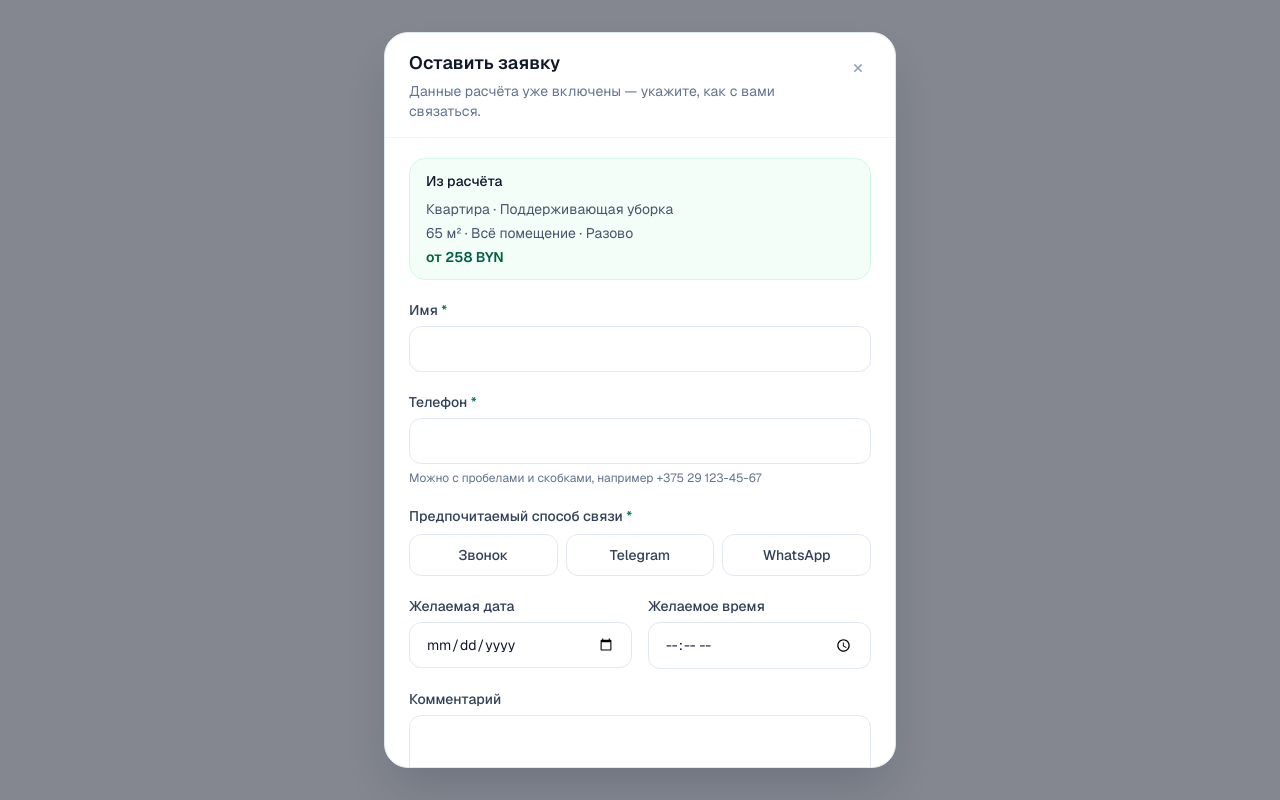
Test: RequestQuoteDialog › keeps form data after server error
The width and height of the screenshot is (1280, 800).
Check: the form with test id "request-quote-form" is shown, box [409,158,871,767]
Type "Мария" into the field labelled "Имя *" at (640, 349), box [409,326,871,372]
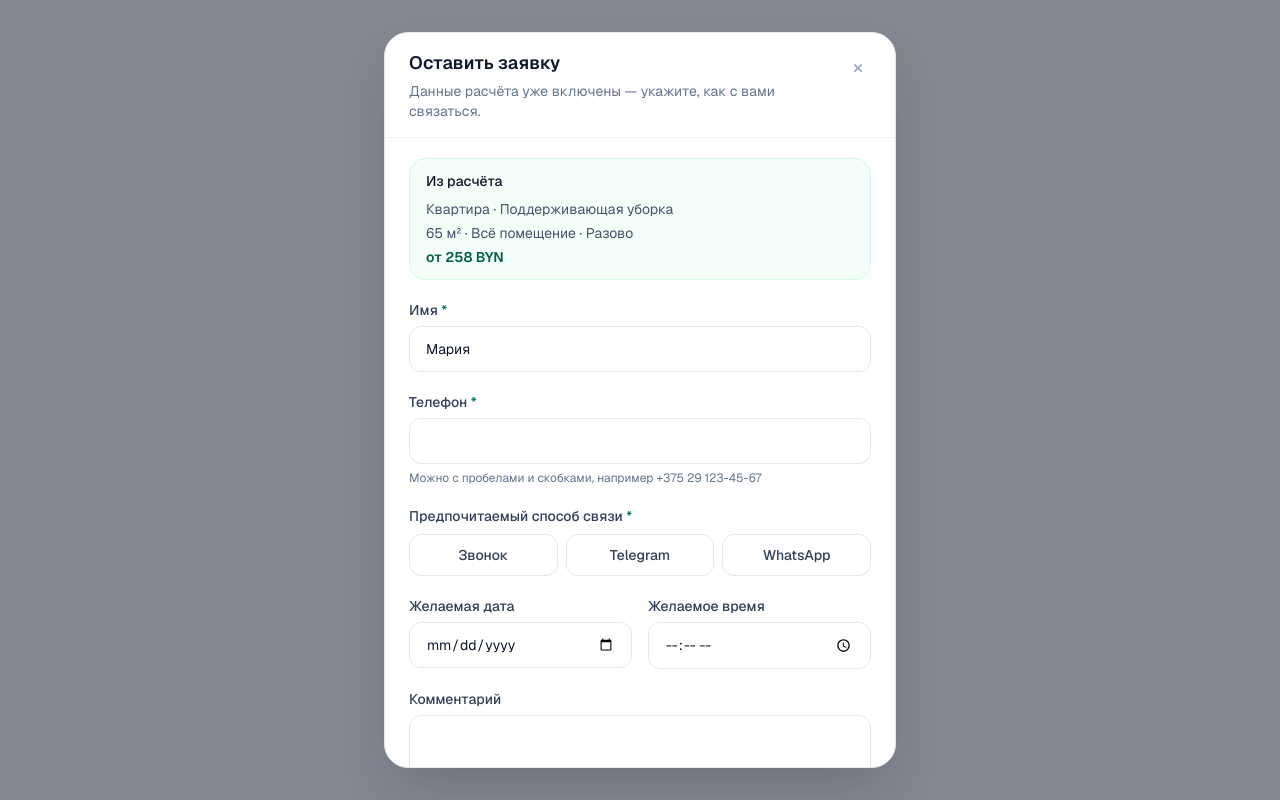
Type "+375291112233" into the field labelled "Телефон *" at (640, 441), box [409,418,871,464]
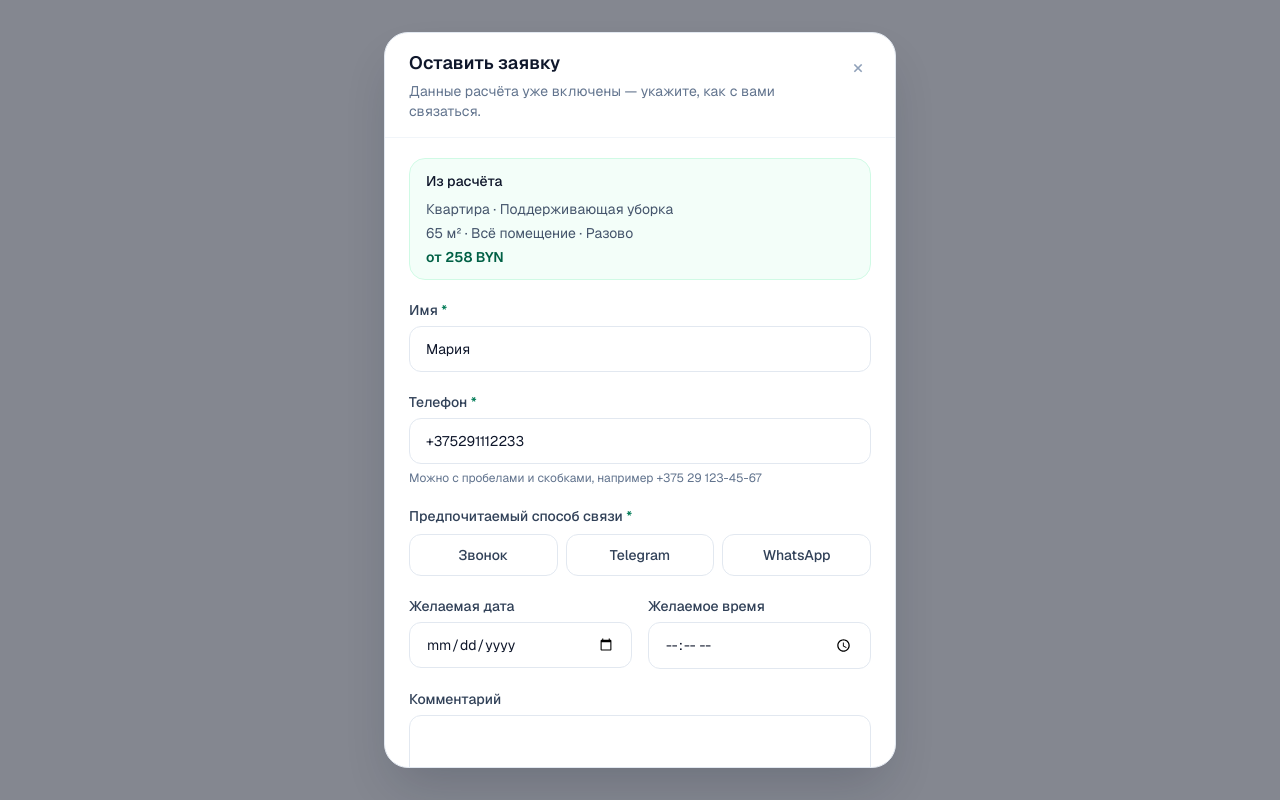
Click the radio button labelled "Telegram" at (640, 555), box [566,534,714,576]
(page scrolled)
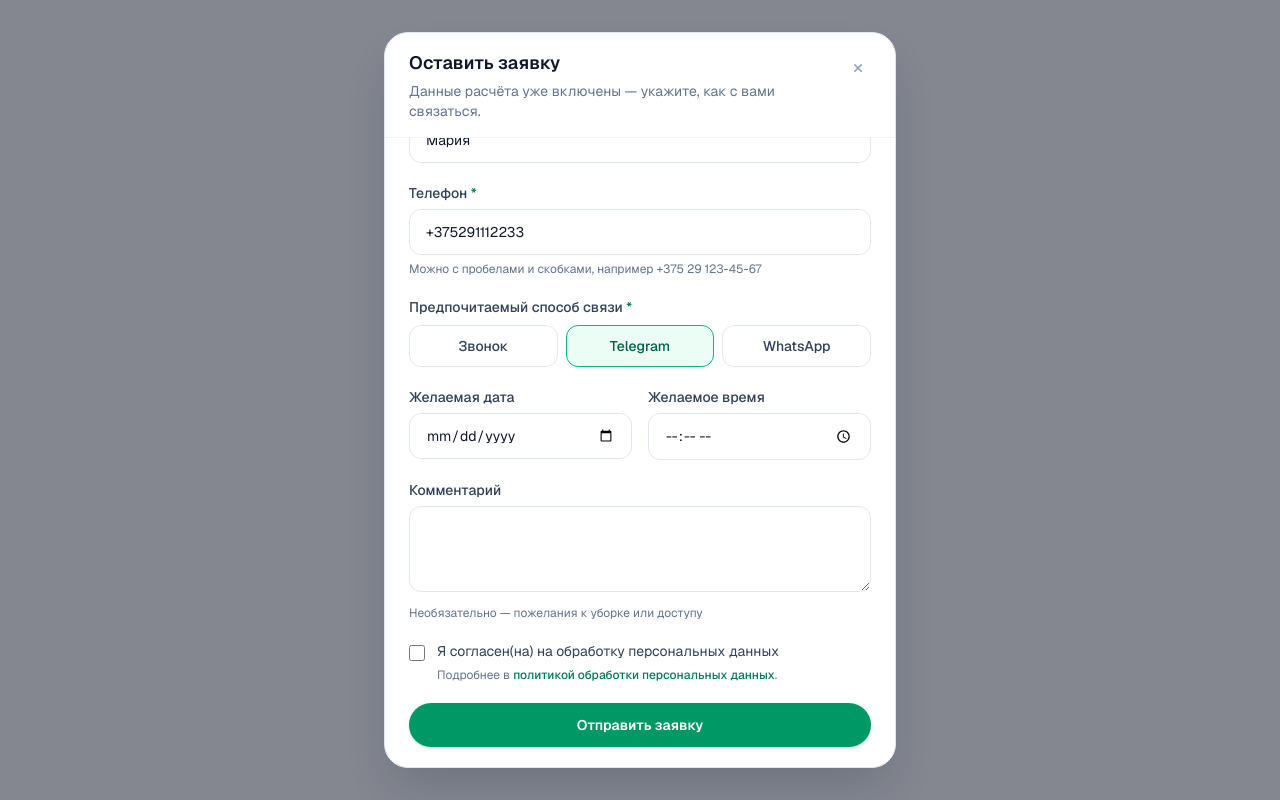
Click the checkbox at (417, 653), box [409,645,425,661]
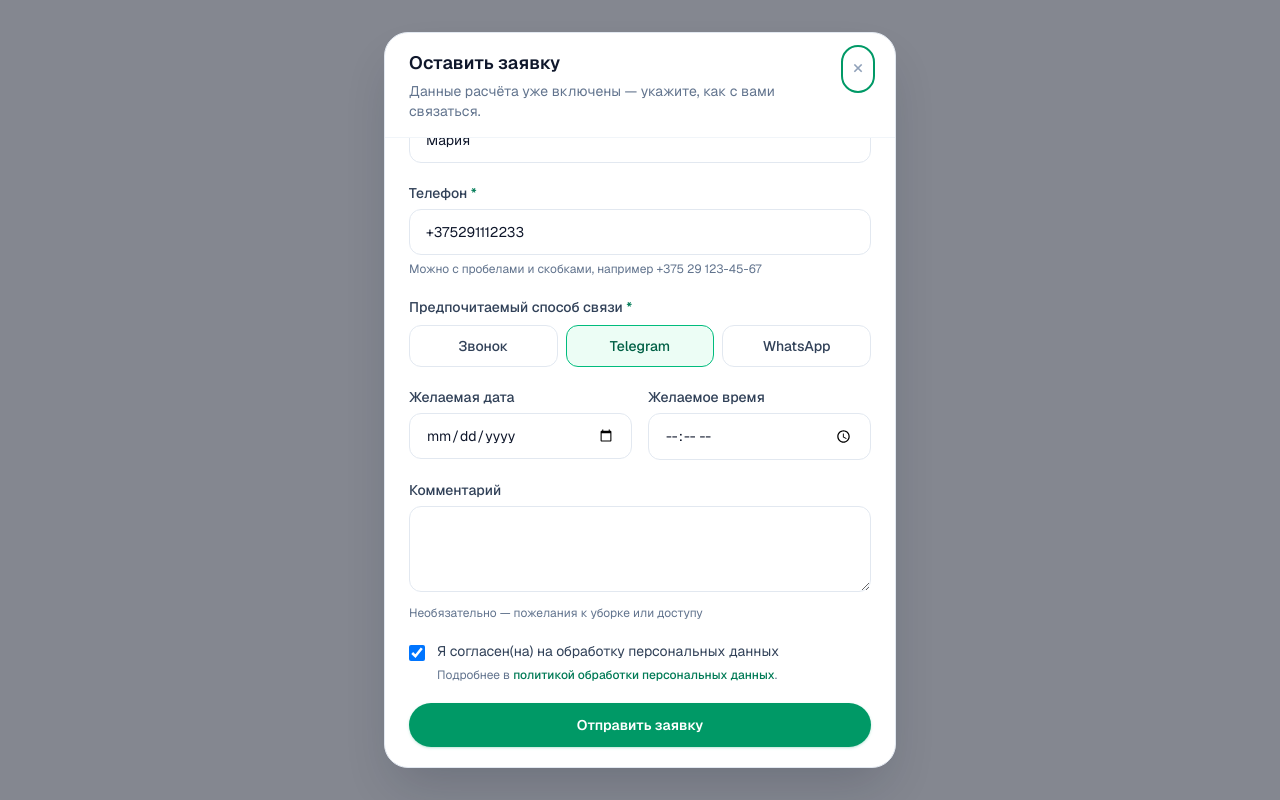
Click the button with test id "request-submit-button" at (640, 725), box [409,703,871,747]
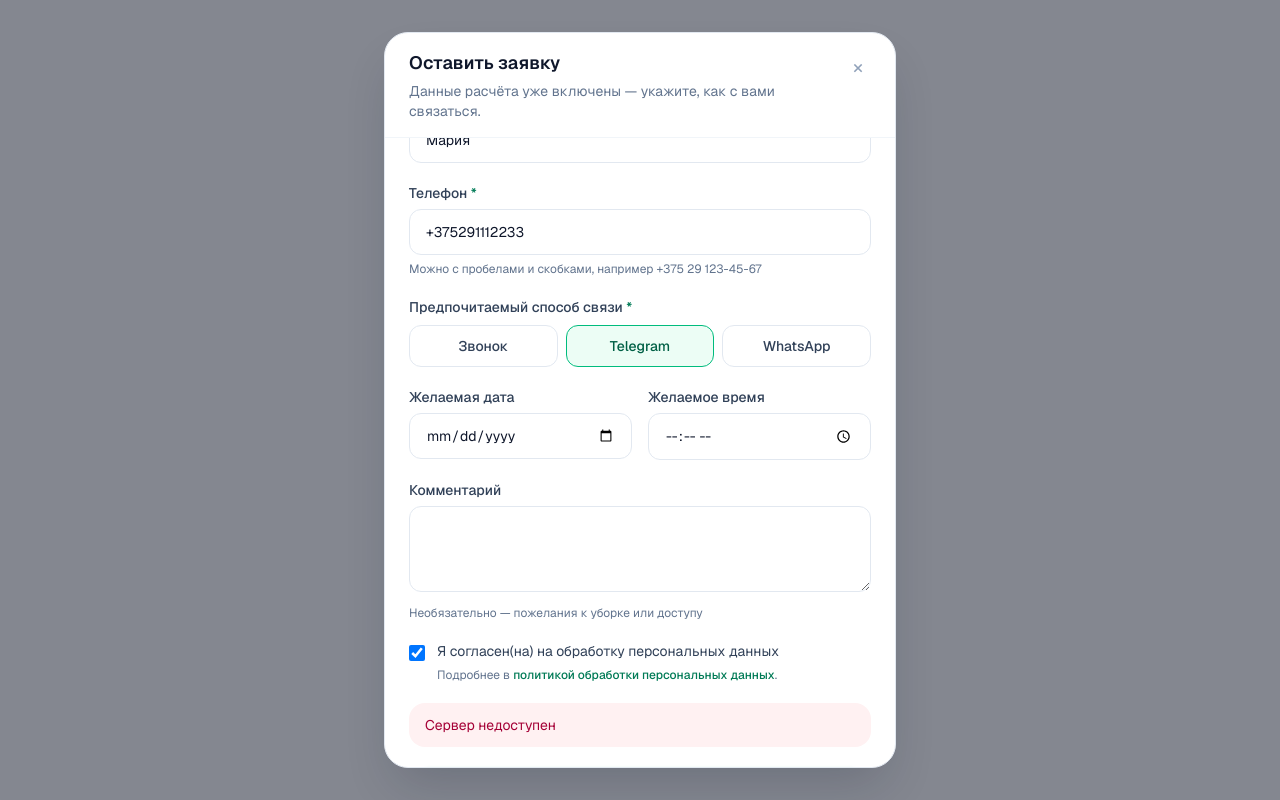
Check: the radio button labelled "Telegram" is checked, box [566,325,714,367]
Check: the text "Сервер недоступен" is shown, box [409,703,871,747]
